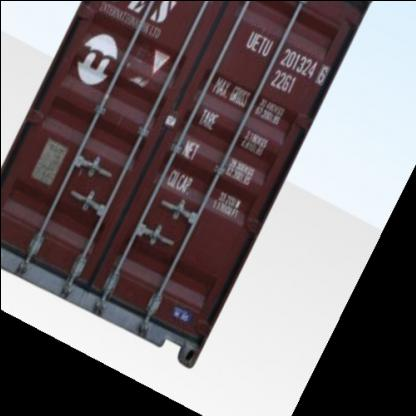Damage: (106, 232, 168, 292), (120, 36, 157, 76)
